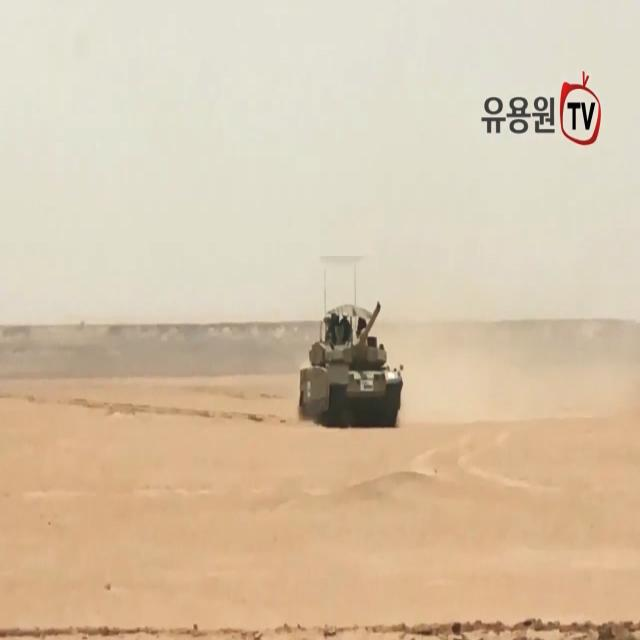korea tank: (299, 297, 407, 431)
